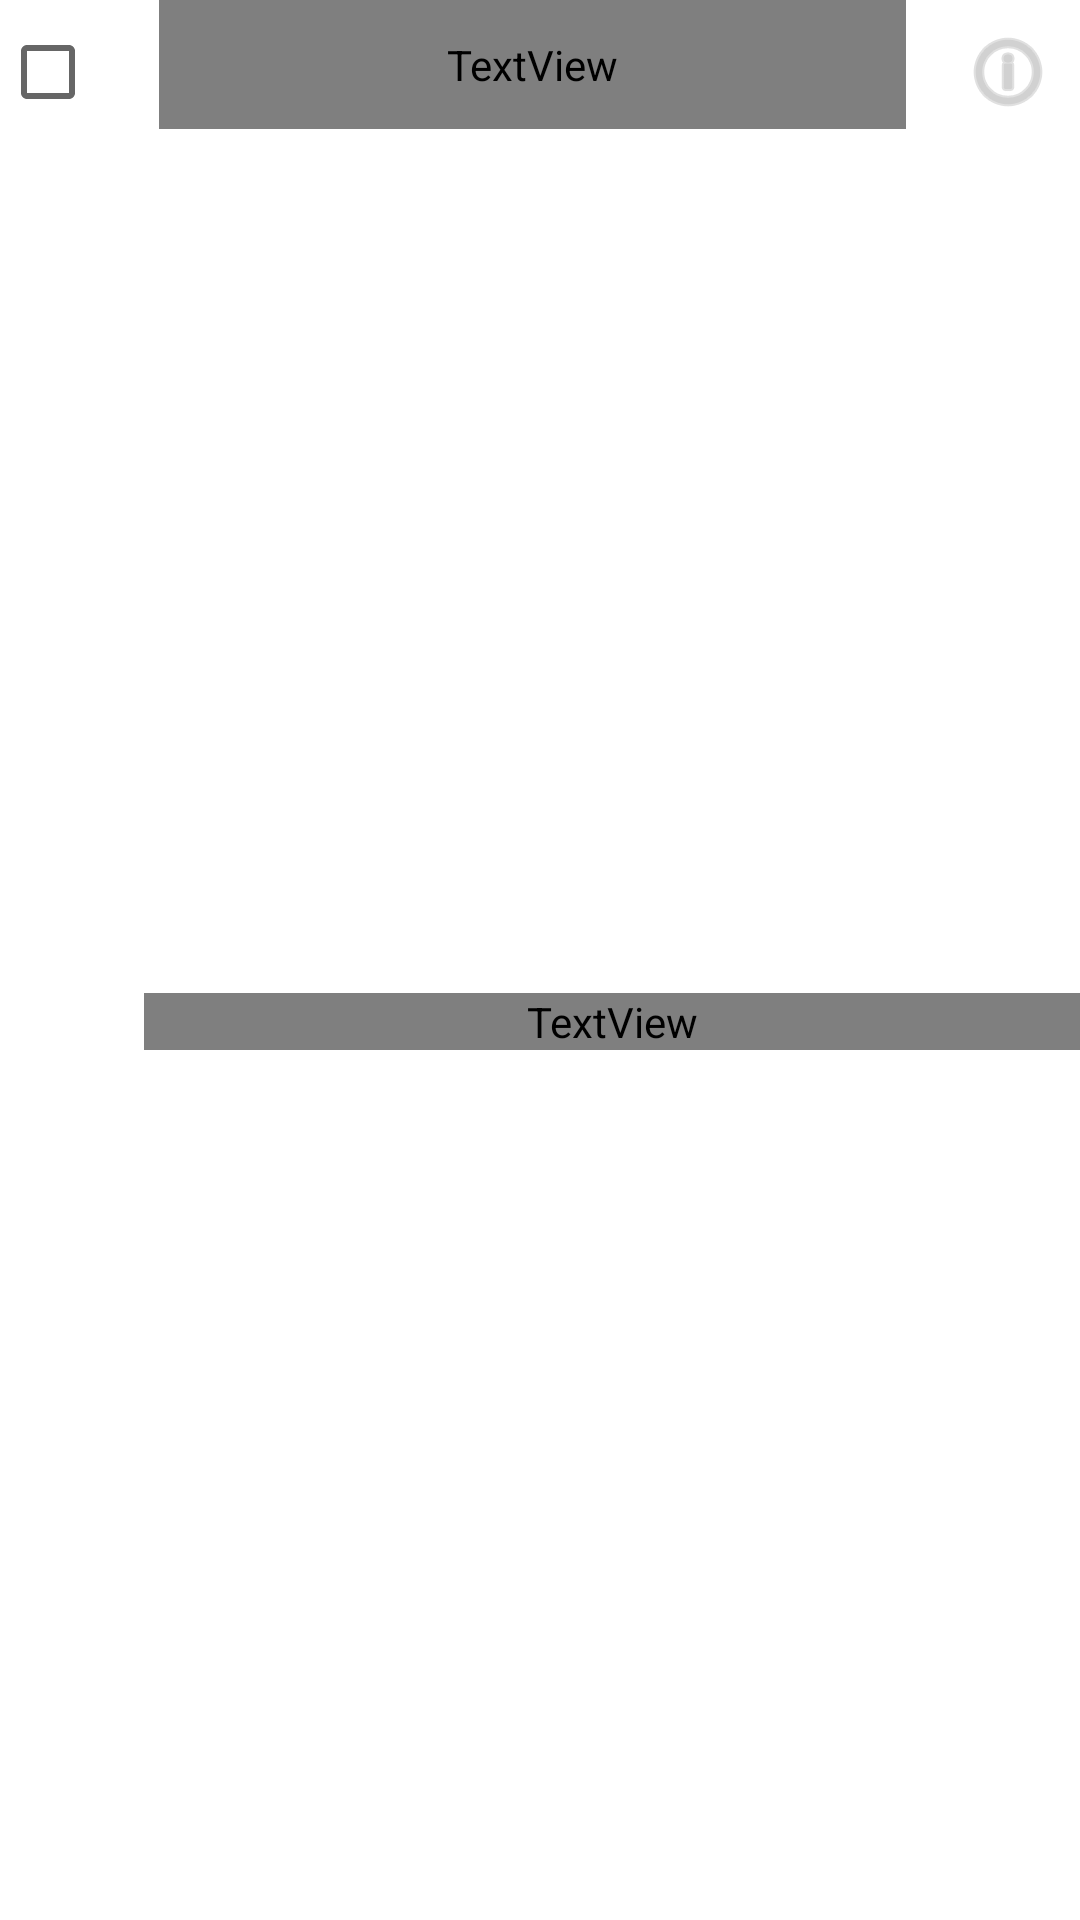

Icon click points for this 1080*1920 phone screenshot, format point (x, y):
info details: point (1008, 72)
